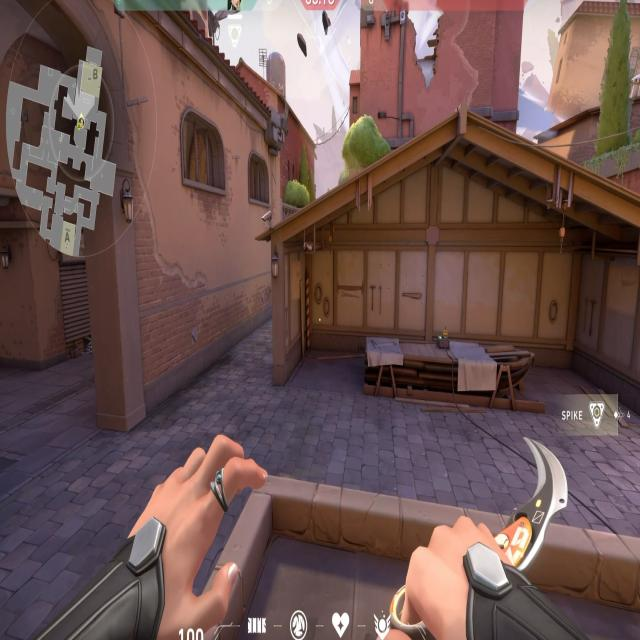B_Garage_Left: (258, 232, 366, 395)
B_Garage_Right: (523, 219, 640, 407)
Throwables: (177, 97, 233, 204), (244, 141, 274, 213)
